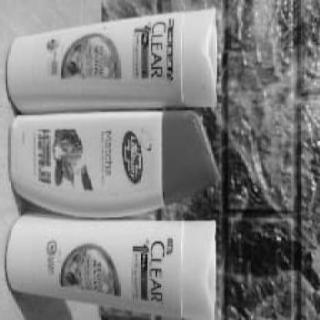objects: (2, 10, 248, 116), (8, 109, 224, 218), (2, 214, 219, 320)
